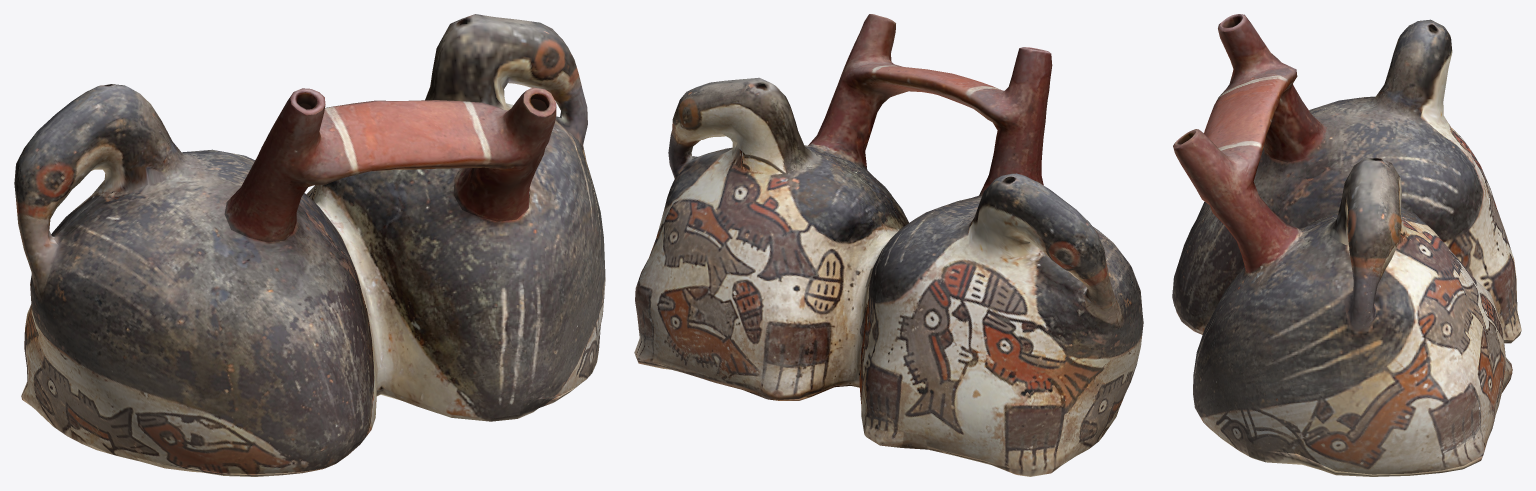
The model's file is objeto_04_nasca.glb.
3 views of the same model, side by side, from view 1: azimuth 30°, elevation 25°; view 2: azimuth 150°, elevation 25°; view 3: azimuth 270°, elevation 25° (orthographic). The views are drawn at different scales.
Visible parts, largest first — view 1: Box001; view 2: Box001; view 3: Box001.
Part boxes in pixels (x1,y1,x2,y2): Box001: (14,14,605,476); Box001: (634,14,1143,476); Box001: (1172,14,1521,476).
Bounding box in the file's own units: 1.01 × 0.6604 × 0.6421.
1 material, 1 textured.
